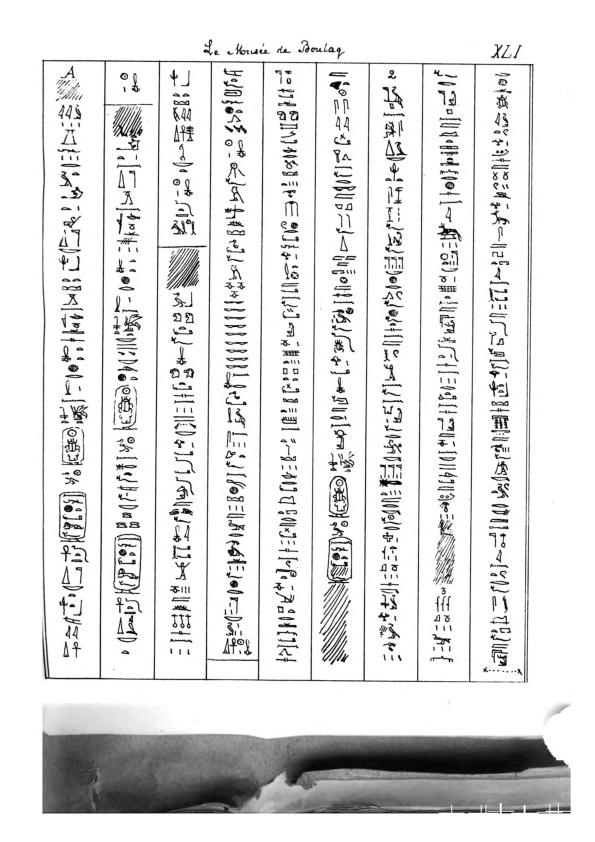circle: (112, 533, 143, 595), (57, 489, 91, 545), (111, 383, 141, 433), (326, 535, 355, 586), (325, 474, 354, 520), (57, 426, 87, 467)
